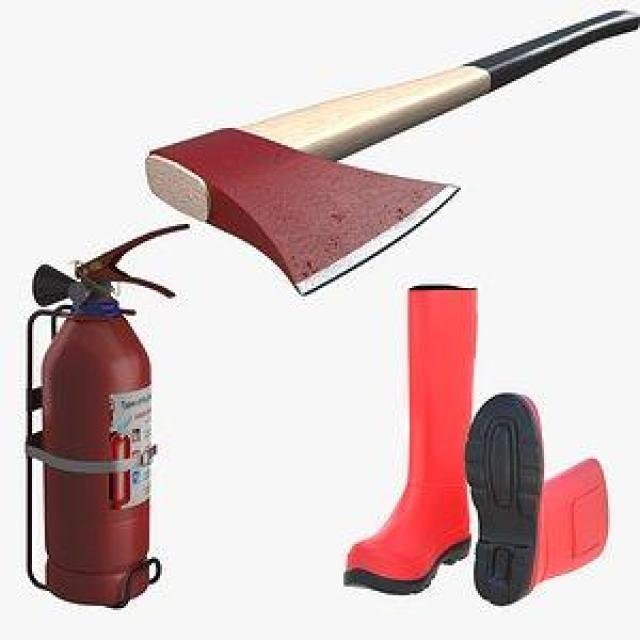fire_extinguisher: (14, 216, 199, 614)
